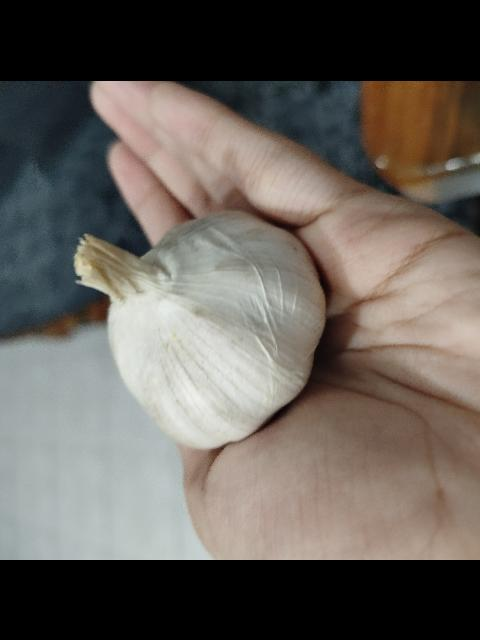garlic: (72, 208, 326, 450)
